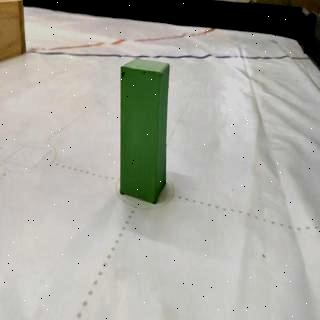greenbox: (119, 58, 173, 206)
